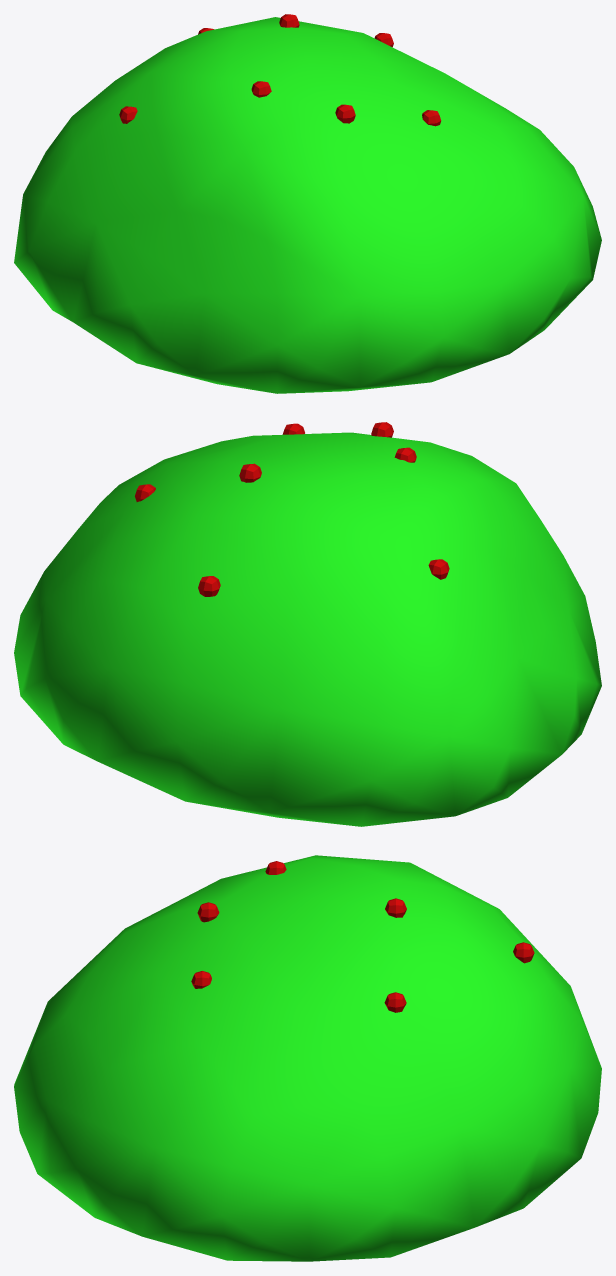
The model's file is SM_Bush_2.fbx.
3 renders of one model, top to bottom at view 1: azimuth 30°, elevation 25°; view 2: azimuth 150°, elevation 25°; view 3: azimuth 270°, elevation 25°, orthographic. The views are drawn at different scales.
Parts seen in each view (by area): view 1: Bush_Mash_1; view 2: Bush_Mash_1; view 3: Bush_Mash_1.
Part boxes in pixels (x1,y1,x2,y2): Bush_Mash_1: (14,14,601,393); Bush_Mash_1: (14,422,601,826); Bush_Mash_1: (14,855,601,1261).
Size of the model in its own units: 1.08 by 0.5886 by 1.08.
